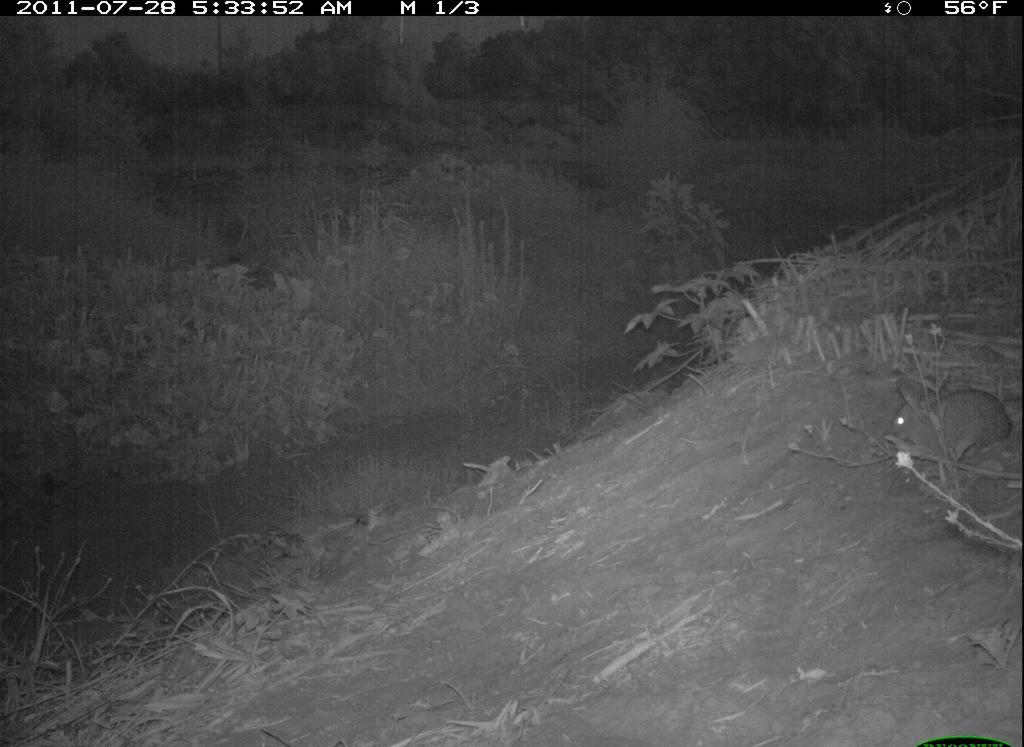rabbit: (880, 373, 1021, 483)
